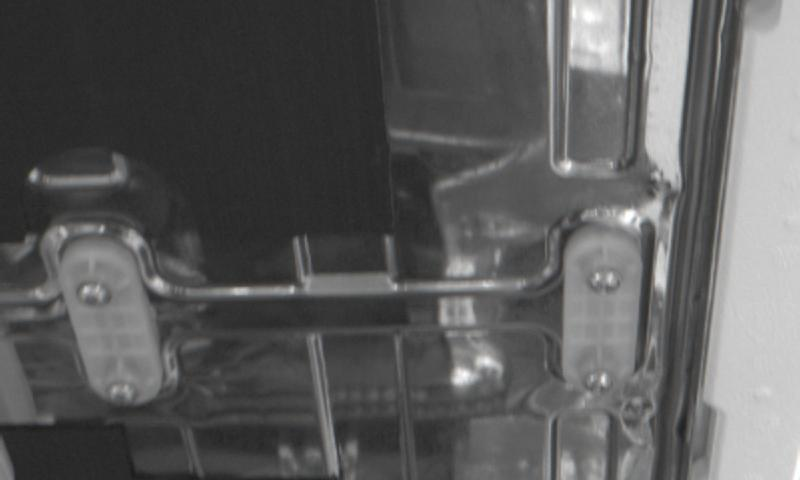vida-ok: (586, 257, 633, 300), (73, 274, 118, 318), (582, 358, 627, 398), (102, 374, 147, 413)
